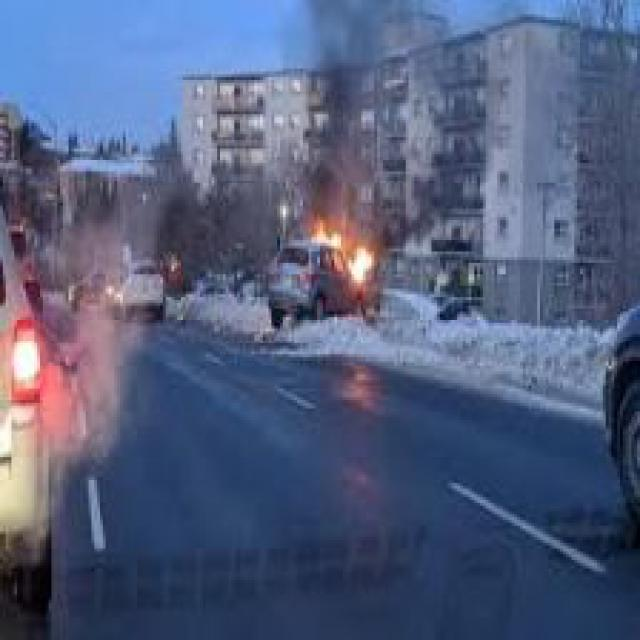fire: (309, 214, 380, 292)
